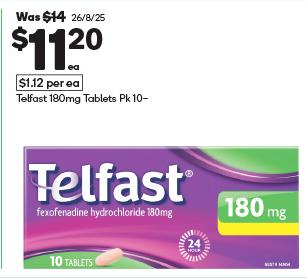description_block: (9, 92, 163, 108)
price_main: (7, 24, 117, 72)
product_image_block: (16, 138, 305, 278)
promo_text_block: (8, 8, 112, 24)
unit_price_block: (7, 73, 93, 93)
